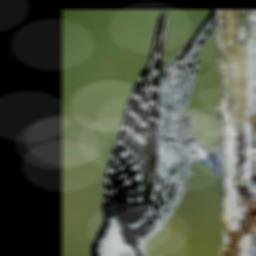Woodpecker: (92, 11, 225, 256)
